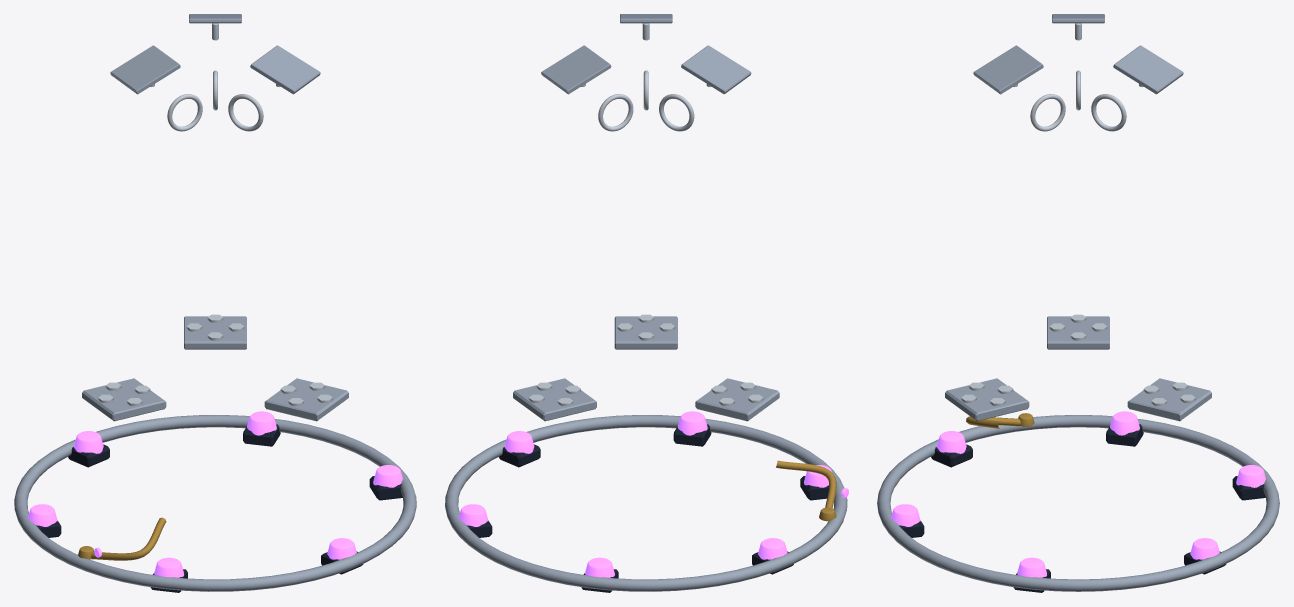
The model's file is tower_singularity_range_s6.glb.
3 views of the same model, side by side, from view 1: azimuth 30°, elevation 25°; view 2: azimuth 150°, elevation 25°; view 3: azimuth 270°, elevation 25° (orthographic).
Visible parts, largest first — view 1: singularity_projector_ring, singularity_foot_plate0, singularity_foot_plate1, singularity_reflector0, singularity_reflector1, singularity_foot_plate2, singularity_projector_conduit, singularity_projector_node2, singularity_projector_node1, singularity_projector_node3, singularity_focus_ring0, singularity_focus_ring1 (+3 smaller); view 2: singularity_projector_ring, singularity_foot_plate0, singularity_foot_plate2, singularity_reflector0, singularity_reflector2, singularity_foot_plate1, singularity_projector_conduit, singularity_projector_node4, singularity_projector_node3, singularity_focus_ring0, singularity_focus_ring2, singularity_projector_node2 (+2 smaller); view 3: singularity_projector_ring, singularity_foot_plate1, singularity_foot_plate2, singularity_reflector1, singularity_reflector2, singularity_foot_plate0, singularity_projector_node0, singularity_projector_node5, singularity_projector_node1, singularity_focus_ring1, singularity_focus_ring2, singularity_projector_node4 (+1 smaller).
Boxes of the visible parts, x1,y1,x2,y2 form: singularity_projector_ring: (14,415,416,591); singularity_foot_plate0: (82,378,166,421); singularity_foot_plate1: (264,378,348,421); singularity_reflector0: (110,45,180,94); singularity_reflector1: (250,45,320,94); singularity_foot_plate2: (184,316,246,349); singularity_projector_conduit: (90,517,166,560); singularity_projector_node2: (247,411,276,435); singularity_projector_node1: (74,431,103,453); singularity_projector_node3: (373,465,402,487); singularity_focus_ring0: (167,94,202,131); singularity_focus_ring1: (228,94,263,131); singularity_projector_ring: (445,415,847,591); singularity_foot_plate0: (695,378,779,421); singularity_foot_plate2: (513,378,596,421); singularity_reflector0: (681,45,751,94); singularity_reflector2: (541,45,611,94); singularity_foot_plate1: (614,316,677,349); singularity_projector_conduit: (776,460,836,508); singularity_projector_node4: (677,411,707,435); singularity_projector_node3: (504,431,534,453); singularity_focus_ring0: (659,94,694,131); singularity_focus_ring2: (598,94,633,131); singularity_projector_node2: (459,504,488,526); singularity_projector_ring: (877,415,1279,591); singularity_foot_plate1: (945,378,1029,421); singularity_foot_plate2: (1127,378,1211,421); singularity_reflector1: (973,45,1043,94); singularity_reflector2: (1113,45,1183,94); singularity_foot_plate0: (1047,316,1109,349); singularity_projector_node0: (1110,411,1139,435); singularity_projector_node5: (937,431,966,453); singularity_projector_node1: (1236,465,1265,487); singularity_focus_ring1: (1030,94,1065,131); singularity_focus_ring2: (1091,94,1126,131); singularity_projector_node4: (891,504,920,526).
Size of the model in its own units: 2.29 by 2.95 by 2.29.
